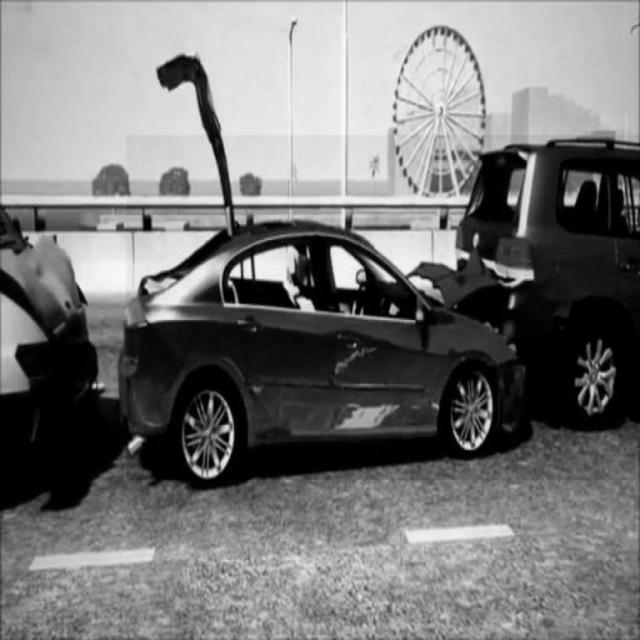accident: (126, 134, 640, 479)
